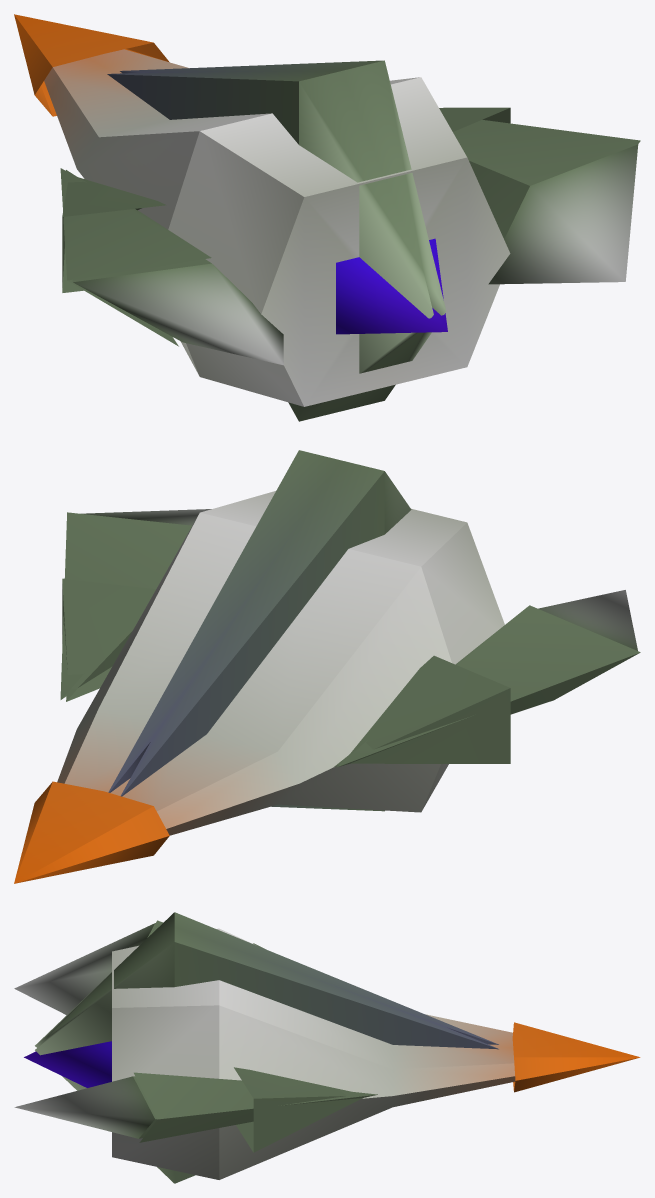
The model's file is Obj_PlayerShip.FBX.
3 renders of one model, top to bottom at view 1: azimuth 30°, elevation 25°; view 2: azimuth 150°, elevation 25°; view 3: azimuth 270°, elevation 25°, orthographic. The views are drawn at different scales.
Parts seen in each view (by area): view 1: Obj_PlayerShip; view 2: Obj_PlayerShip; view 3: Obj_PlayerShip.
Part boxes in pixels (<box>): Obj_PlayerShip: <box>14,14,640,421</box>; Obj_PlayerShip: <box>14,450,640,883</box>; Obj_PlayerShip: <box>14,912,640,1183</box>.
Bounding box in the file's own units: 85.12 × 113 × 48.23.
